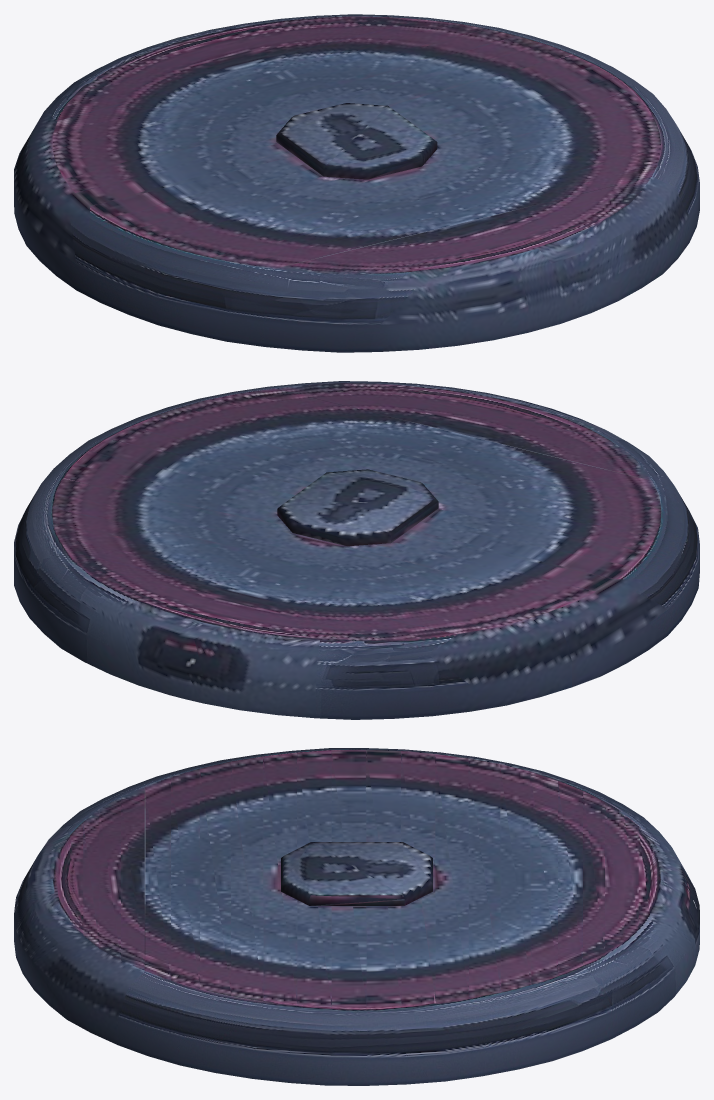
Rendered from slot.fbx.
3 views of the same model, one above another, from view 1: azimuth 30°, elevation 25°; view 2: azimuth 150°, elevation 25°; view 3: azimuth 270°, elevation 25° (orthographic).
Visible parts, largest first — view 1: base; view 2: base; view 3: base.
Boxes of the visible parts, x1,y1,x2,y2 form: base: (14, 14, 699, 352); base: (14, 381, 699, 719); base: (14, 748, 699, 1085).
Bounding box in the file's own units: 39.31 × 39.33 × 4.56.
1 material, 1 textured.
